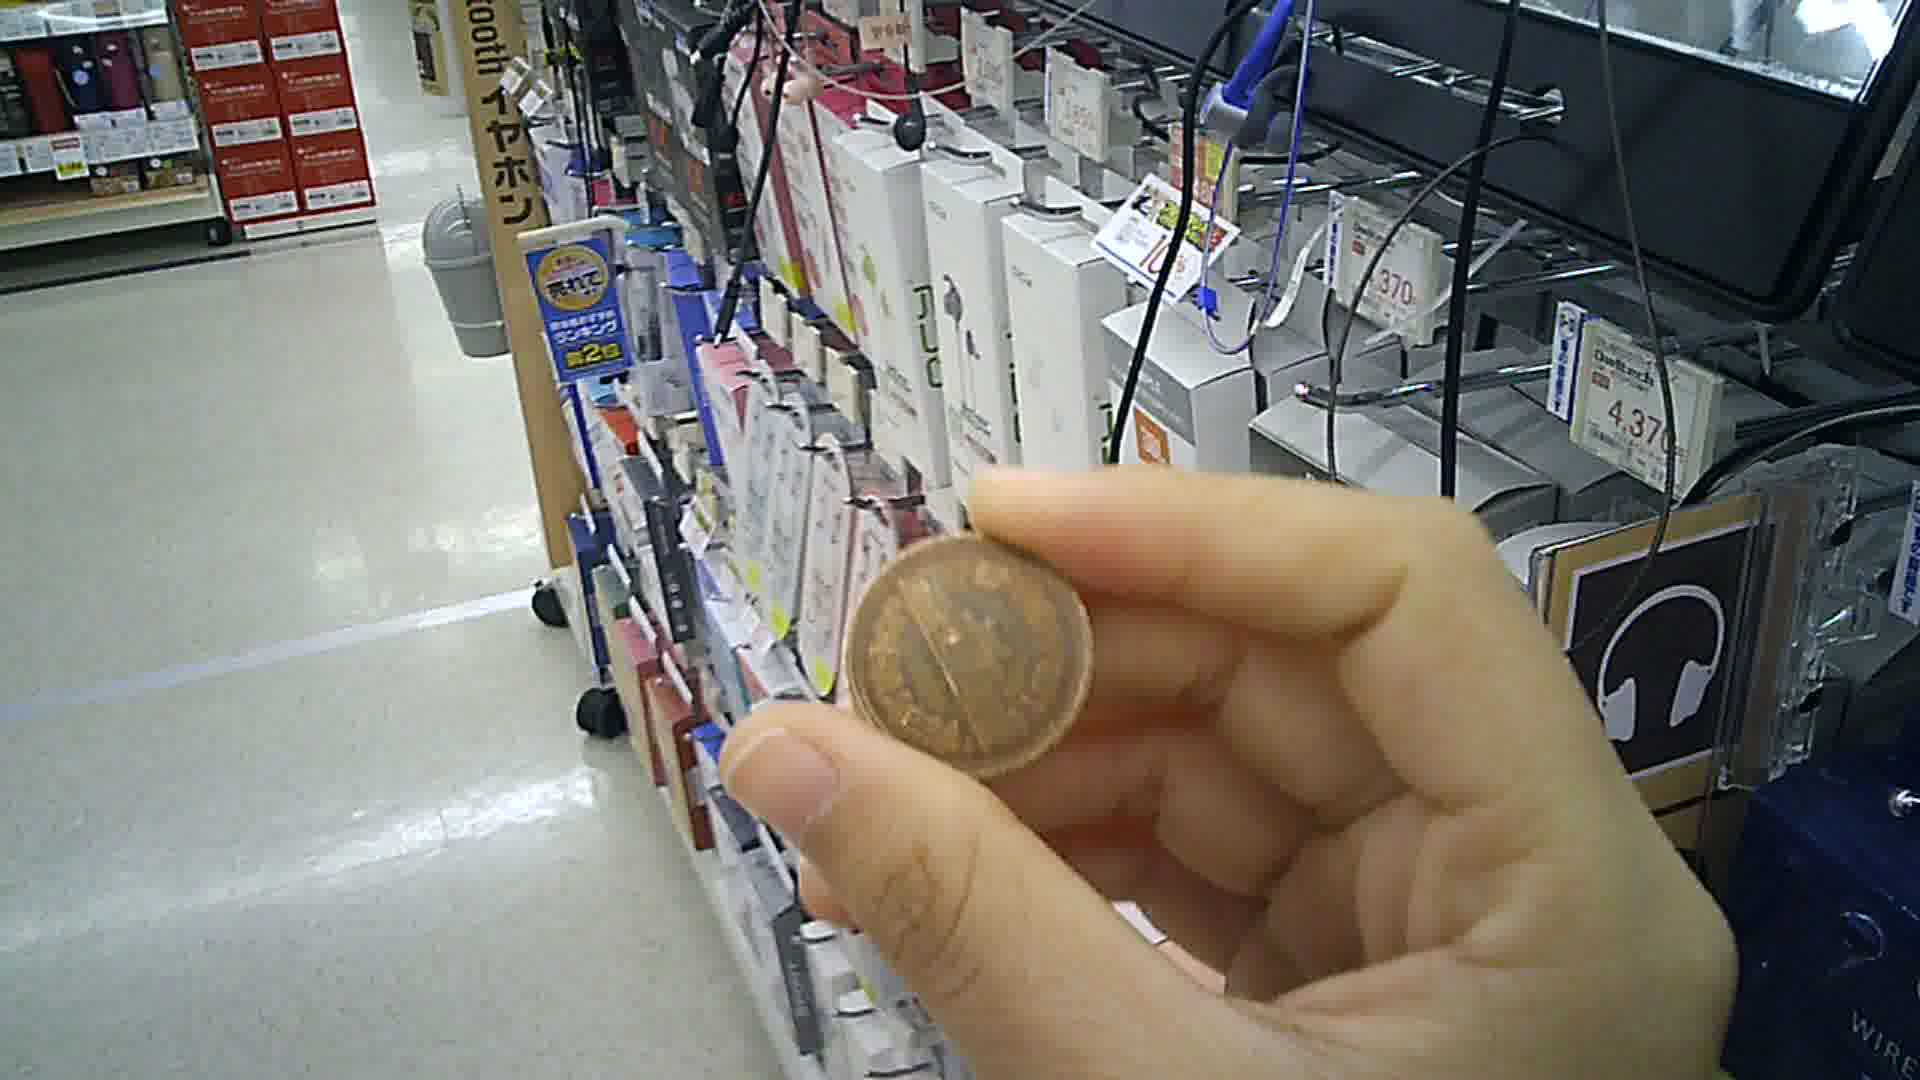10 Yen: (847, 521, 1096, 789)
